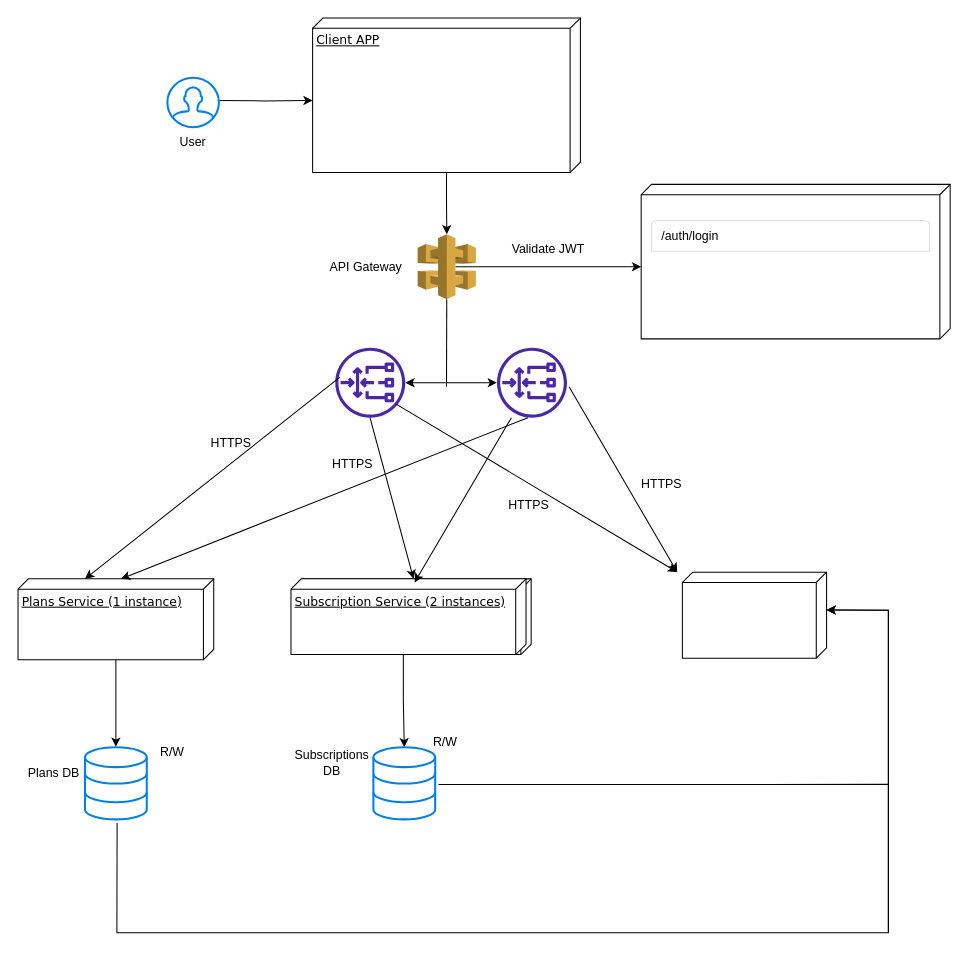
This 968x959 diagram has some shape labels left out. The box of each missing label's shape, as (x1, y1, x2, y2) in pixels:
Auth External Service (JWT): (640, 183, 950, 339)
Dashboard Service: (681, 571, 827, 658)
